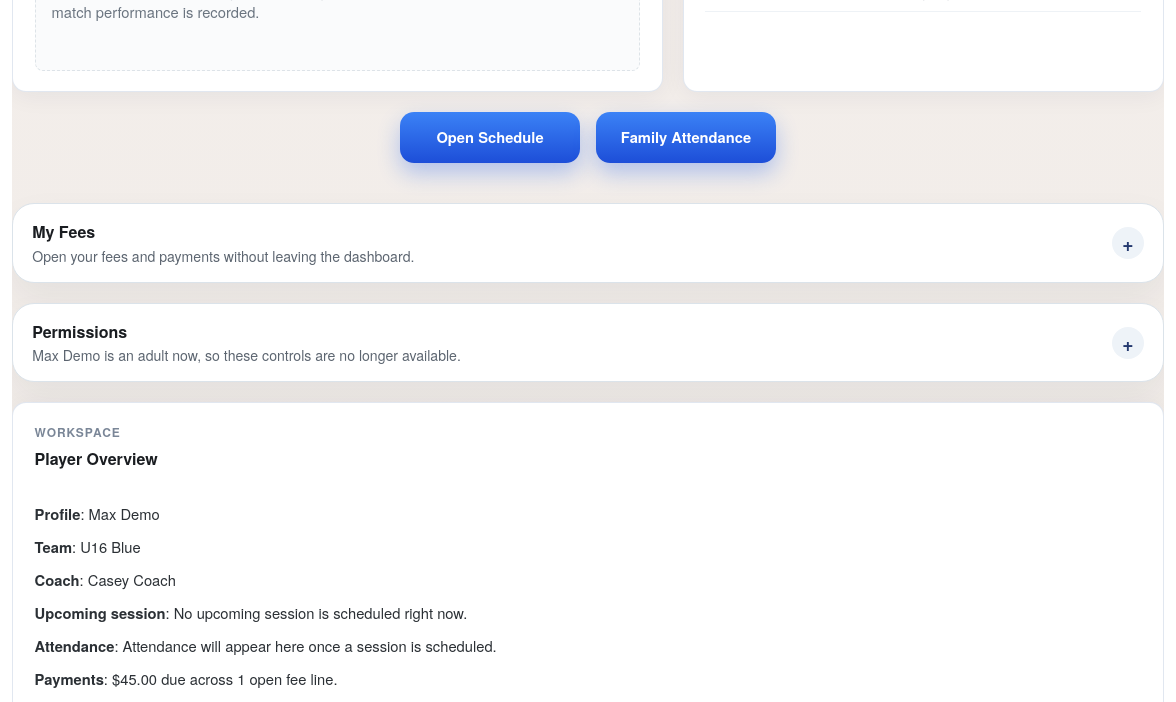
Test case: MemberPlayerDashboard parent view › shows a disclaimer instead of editable permissions for adult linked players
This screenshot has width=1176, height=702.
(page scrolled)
Click the button "Permissions" at [80, 331], box [13,304,1163,382]
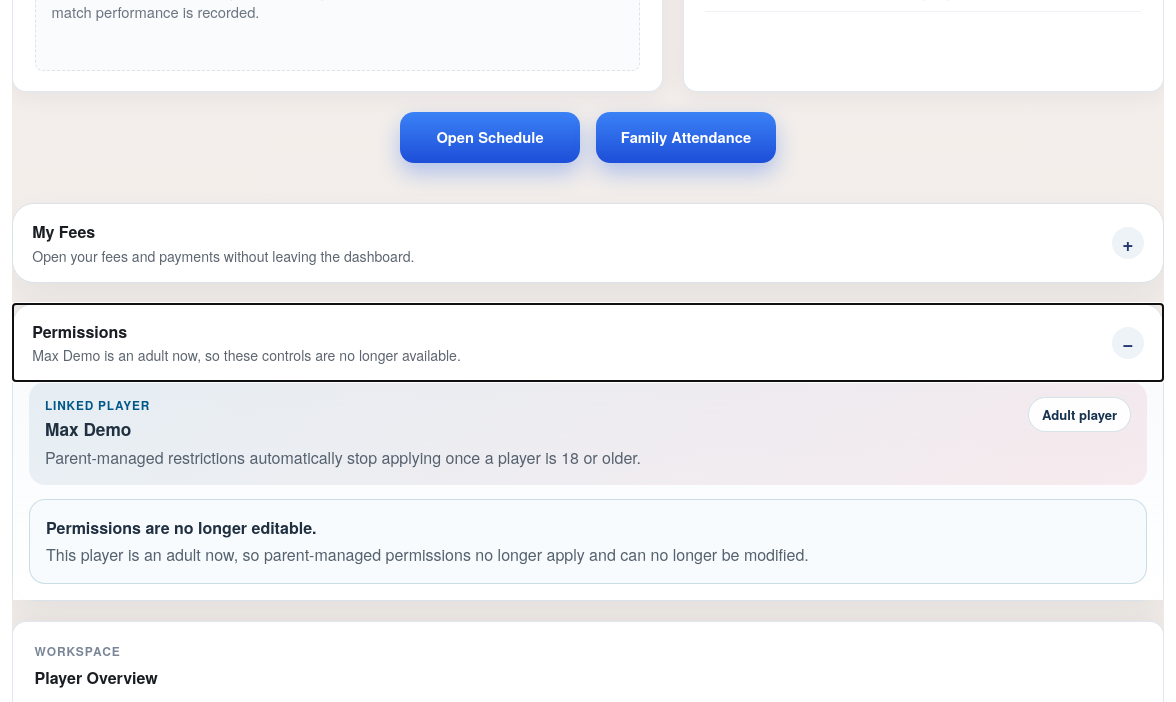
Expected: the text "adult now" is shown, [32,346,461,366]
Expected: the text "Permissions are no longer editable." is shown, [46,516,316,539]
